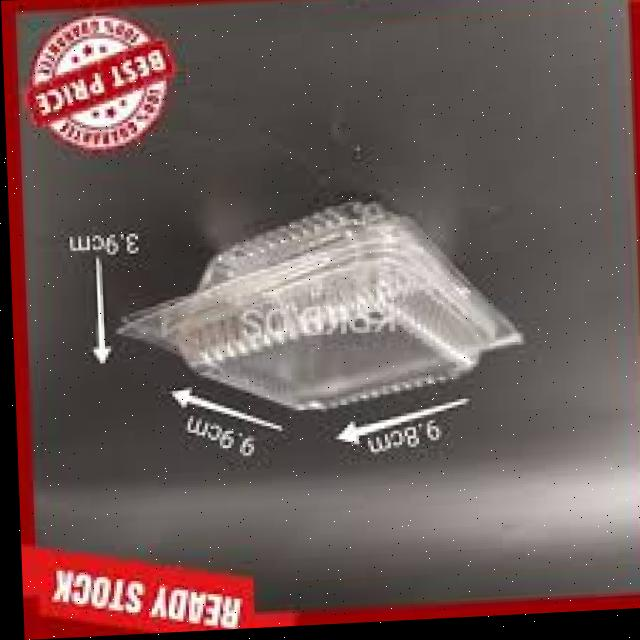disposable: (121, 170, 498, 421)
